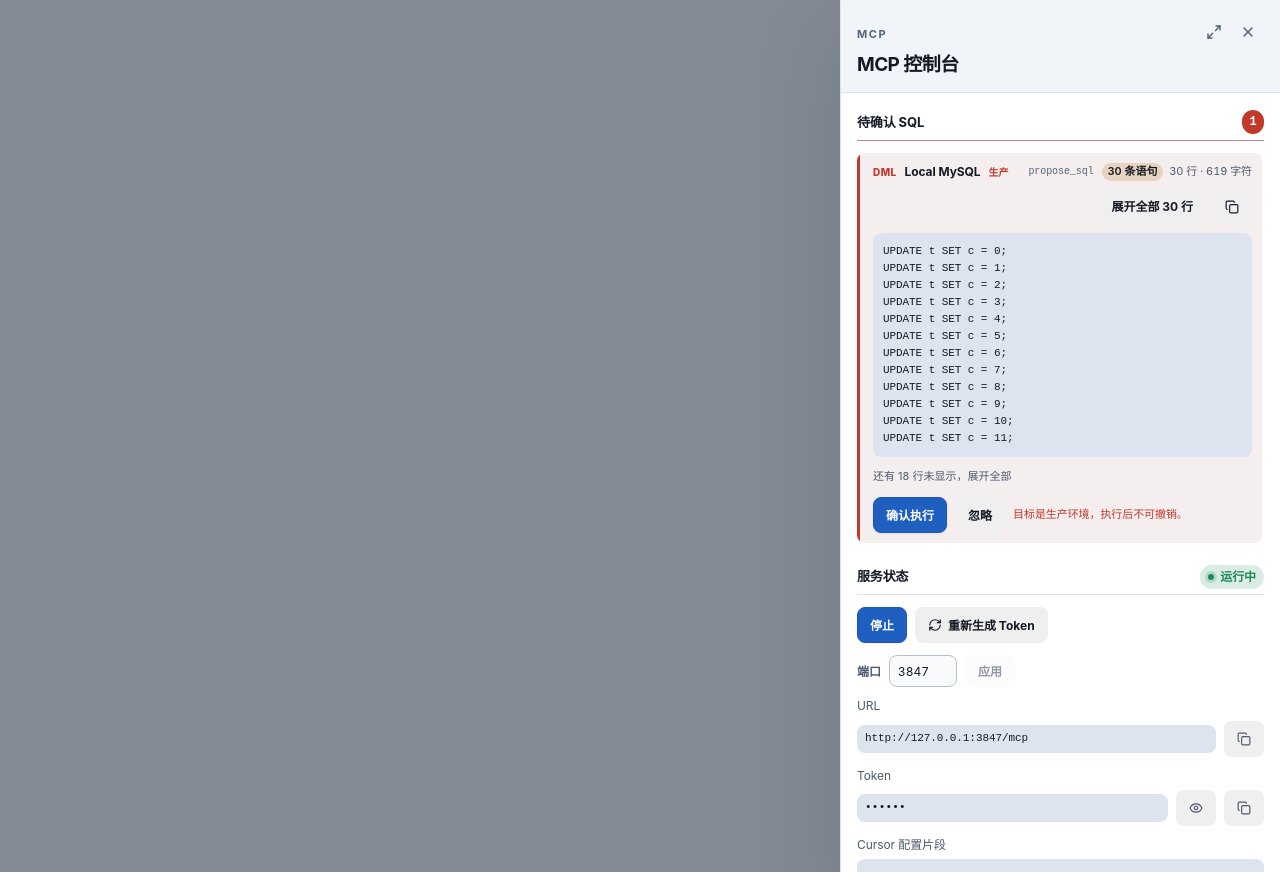
Test case: McpPanel › keeps a long proposal collapsed until the reviewer opens it
The image size is (1280, 872).
Expected: the text "30 条语句" is shown, [1102, 163, 1163, 181]
Expected: the button "还有 18 行未显示，展开全部" is shown, [873, 465, 1252, 489]
What coordinates should you click on to do the following:
click the button "展开全部 30 行"
I would click on:
 (1152, 207)
Its box is [1098, 189, 1206, 225].
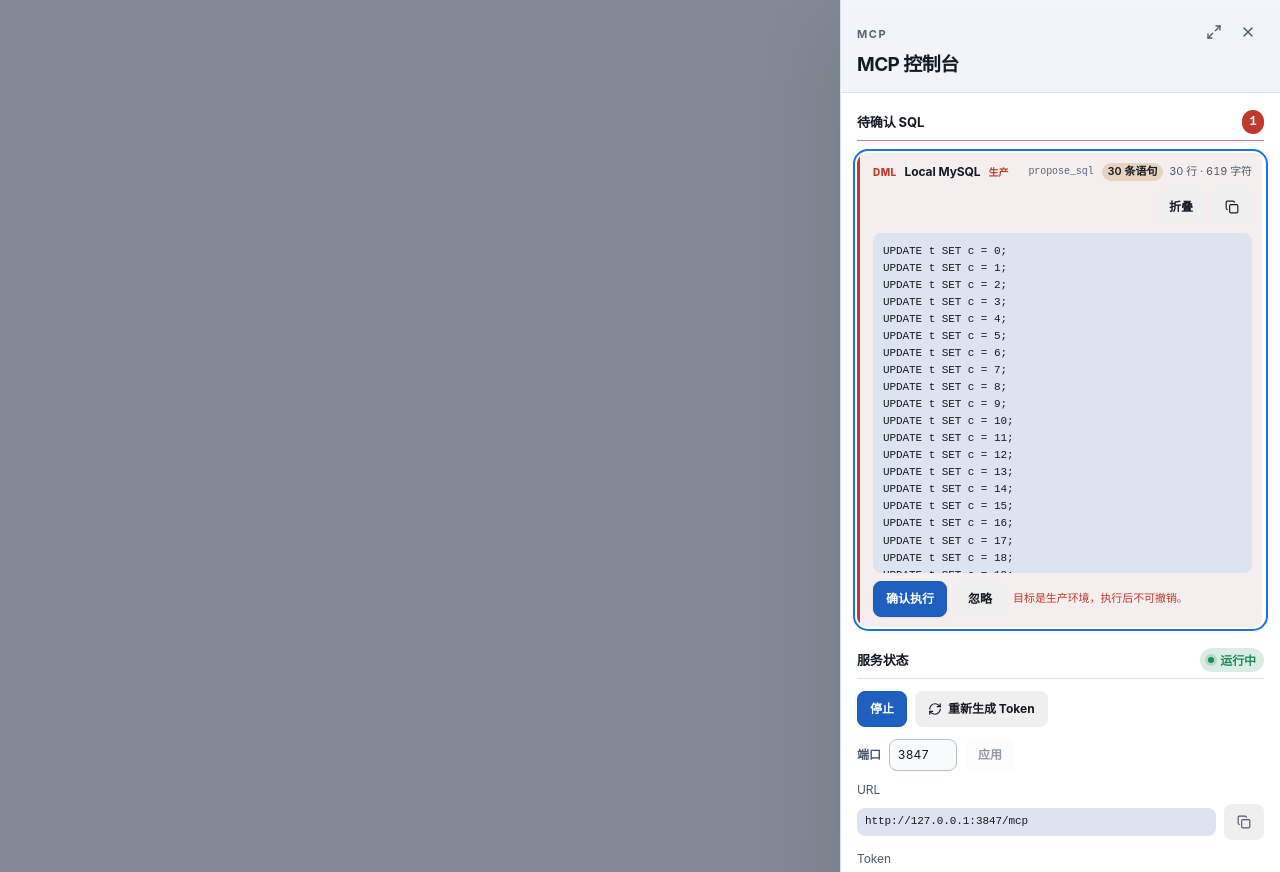
Expected: the text "UPDATE t SET c = 29;" is shown, [883, 245, 1014, 627]
Now the button "折叠" is expanded, box [1156, 189, 1206, 225]
Now the button "还有 18 行未显示" is gone
